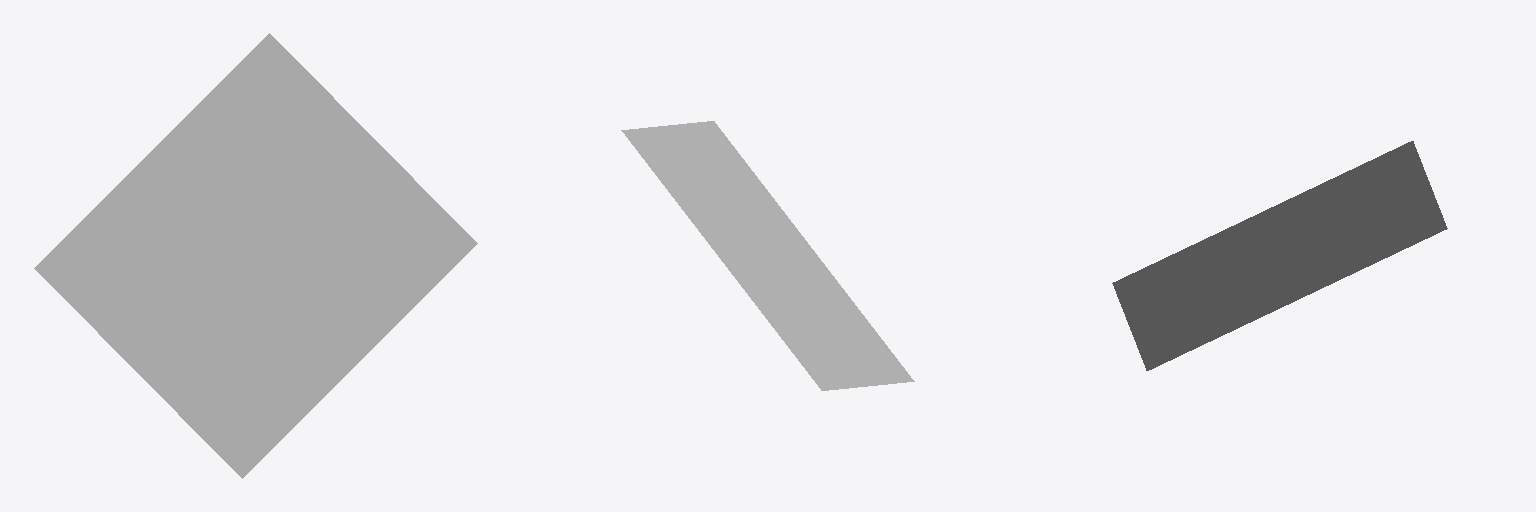
Rendered from MirrorDer.obj.
3 renders of one model, left to right at view 1: azimuth 30°, elevation 25°; view 2: azimuth 150°, elevation 25°; view 3: azimuth 270°, elevation 25°, orthographic.
Parts seen in each view (by area): view 1: pPlane1; view 2: pPlane1; view 3: pPlane1.
Boxes of the visible parts, box(x1,y1,x2,y2) form: pPlane1: box(34, 33, 477, 478); pPlane1: box(621, 121, 914, 390); pPlane1: box(1112, 141, 1447, 370).
Size of the model in its own units: 0.9561 by 1.03 by 1.01.